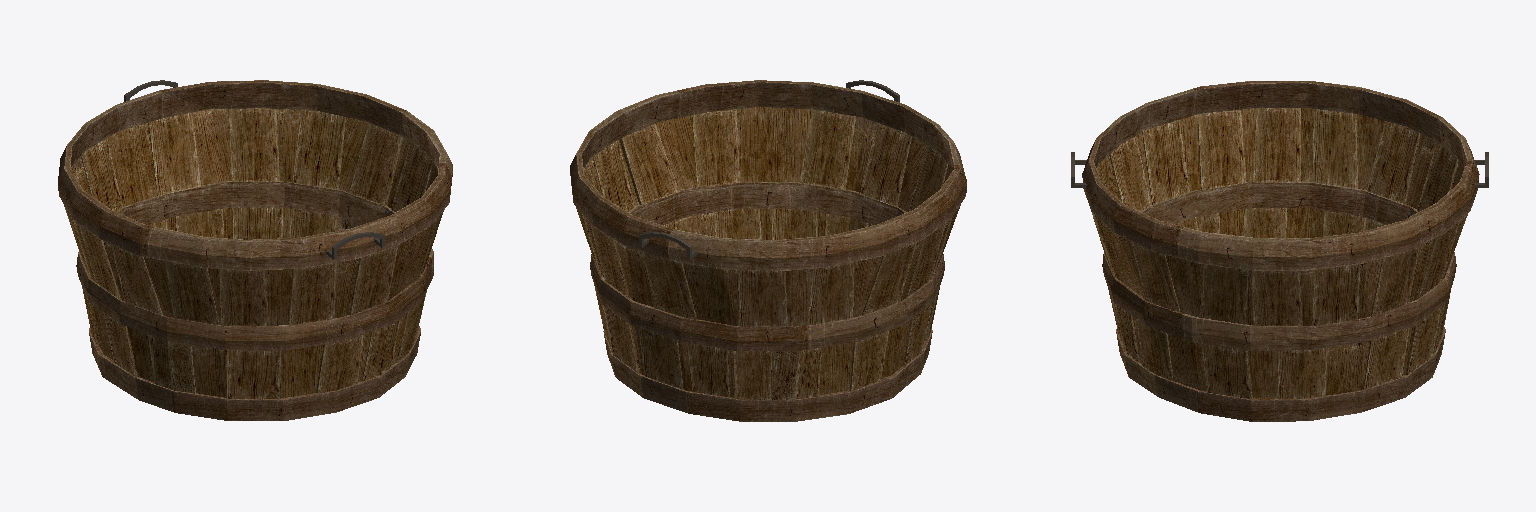
3 renders of one model, left to right at view 1: azimuth 30°, elevation 25°; view 2: azimuth 150°, elevation 25°; view 3: azimuth 270°, elevation 25°, orthographic.
Parts seen in each view (by area): view 1: WoodBasket_0; view 2: WoodBasket_0; view 3: WoodBasket_0.
Part boxes in pixels (left/top/right/bottom): WoodBasket_0: left=58, top=80, right=452, bottom=420; WoodBasket_0: left=570, top=80, right=966, bottom=421; WoodBasket_0: left=1071, top=81, right=1488, bottom=421.
Bounding box in the file's own units: 42.84 × 23.59 × 45.56.
Materials: 1 (1 with a texture image).